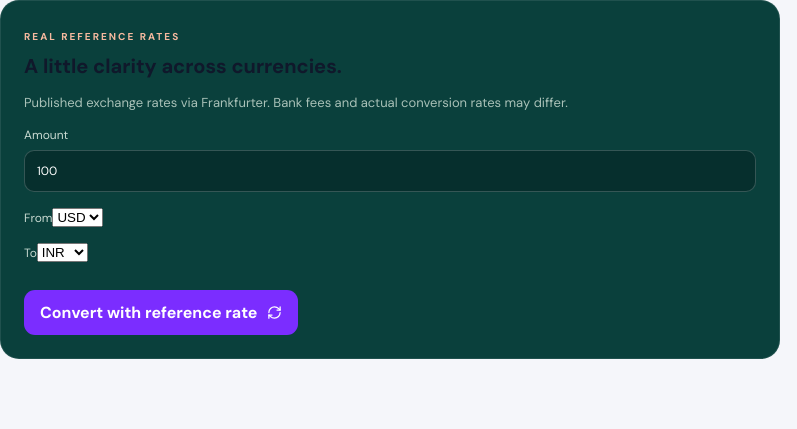
Test: money tools › shows provider errors without fabricated exchange rates
What coordinates should you click on to do the following:
click the button "Convert with reference rate"
I would click on:
 (161, 312)
Its box is top-left (24, 290), bottom-right (298, 335).
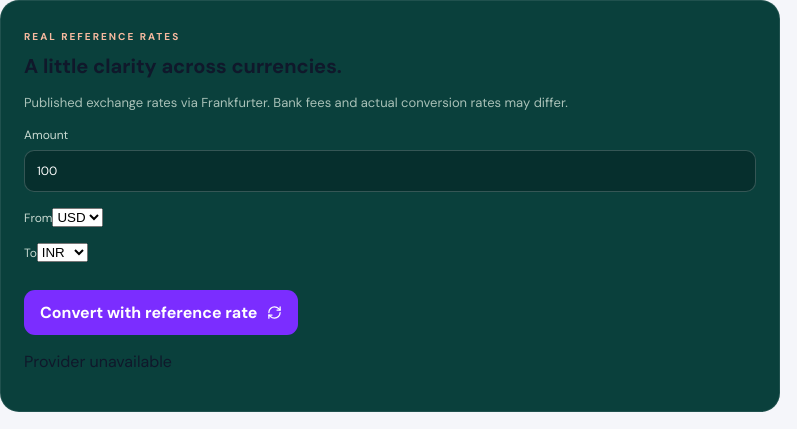
expect the message reads "Provider unavailable": met, box top-left (24, 351), bottom-right (172, 372)
